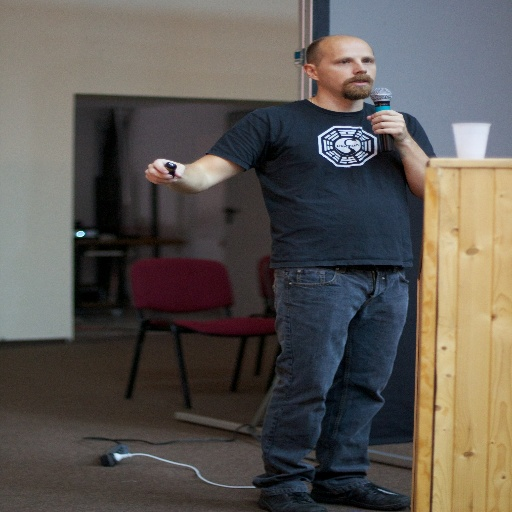hand: (362, 108, 409, 143), (143, 155, 184, 182)
